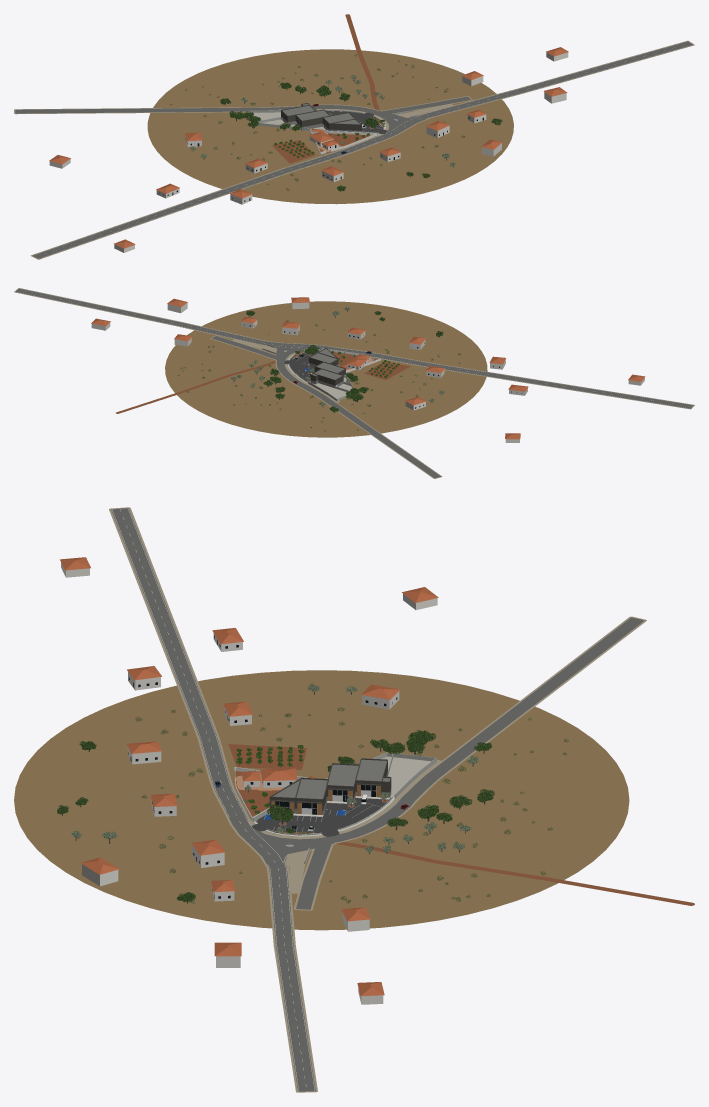
The model's file is armazens.glb.
3 views of the same model, one above another, from view 1: azimuth 30°, elevation 25°; view 2: azimuth 150°, elevation 25°; view 3: azimuth 270°, elevation 25° (orthographic). The views are drawn at different scales.
Parts seen in each view (by area): view 1: terreno, estrada_0, berma_0, pomar_0, caminho_terra_0; view 2: terreno, estrada_0, berma_0, pavimento_0, caminho_terra_0, pomar_0; view 3: terreno, estrada_0, berma_0, pavimento_0, caminho_terra_0, pomar_0, logradouros_1.
Boxes of the visible parts, <box> form: terreno: <box>147,49,513,204</box>; estrada_0: <box>15,41,692,258</box>; berma_0: <box>14,40,694,259</box>; pomar_0: <box>272,140,315,163</box>; caminho_terra_0: <box>345,14,379,110</box>; terreno: <box>165,301,487,437</box>; estrada_0: <box>15,288,693,478</box>; berma_0: <box>14,288,694,478</box>; pavimento_0: <box>287,350,319,381</box>; caminho_terra_0: <box>116,361,275,413</box>; pomar_0: <box>364,362,410,379</box>; terreno: <box>14,670,629,930</box>; estrada_0: <box>111,508,644,1091</box>; berma_0: <box>109,507,646,1092</box>; pavimento_0: <box>255,798,390,834</box>; caminho_terra_0: <box>336,842,694,905</box>; pomar_0: <box>228,744,306,769</box>; logradouros_1: <box>381,756,430,797</box>.
Bounding box in the file's own units: 563 × 8.38 × 277.
